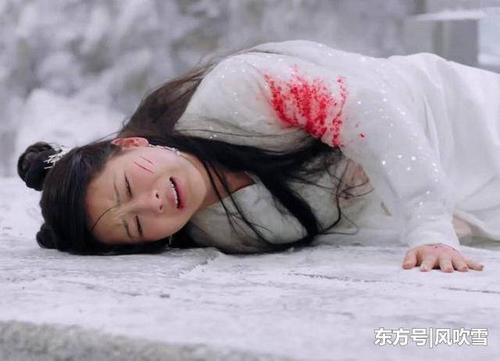Fall-Detected: (0, 17, 500, 270)
